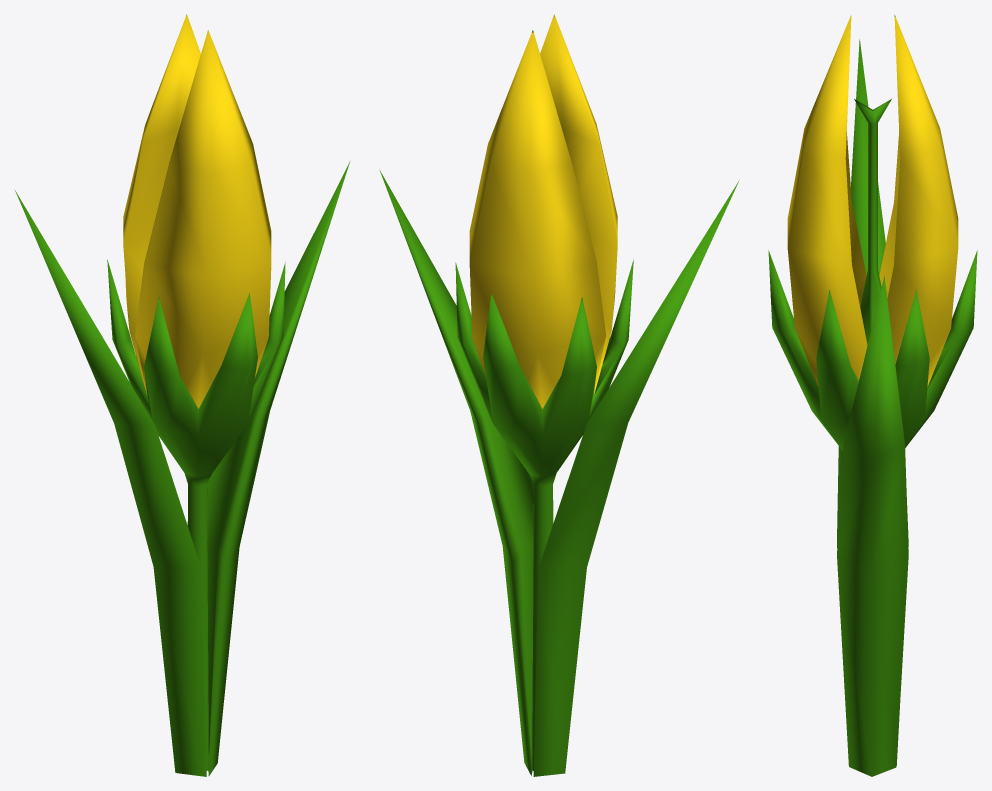
File: Crocus1_Yellow.fbx
3 views of the same model, side by side, from view 1: azimuth 30°, elevation 25°; view 2: azimuth 150°, elevation 25°; view 3: azimuth 270°, elevation 25° (orthographic).
Visible parts, largest first — view 1: crocus; view 2: crocus; view 3: crocus.
Part boxes in pixels (left/top/right/bottom): crocus: left=14, top=14, right=350, bottom=776; crocus: left=379, top=14, right=739, bottom=776; crocus: left=768, top=15, right=977, bottom=776.
Size of the model in its own units: 57.1 by 117 by 29.38.
